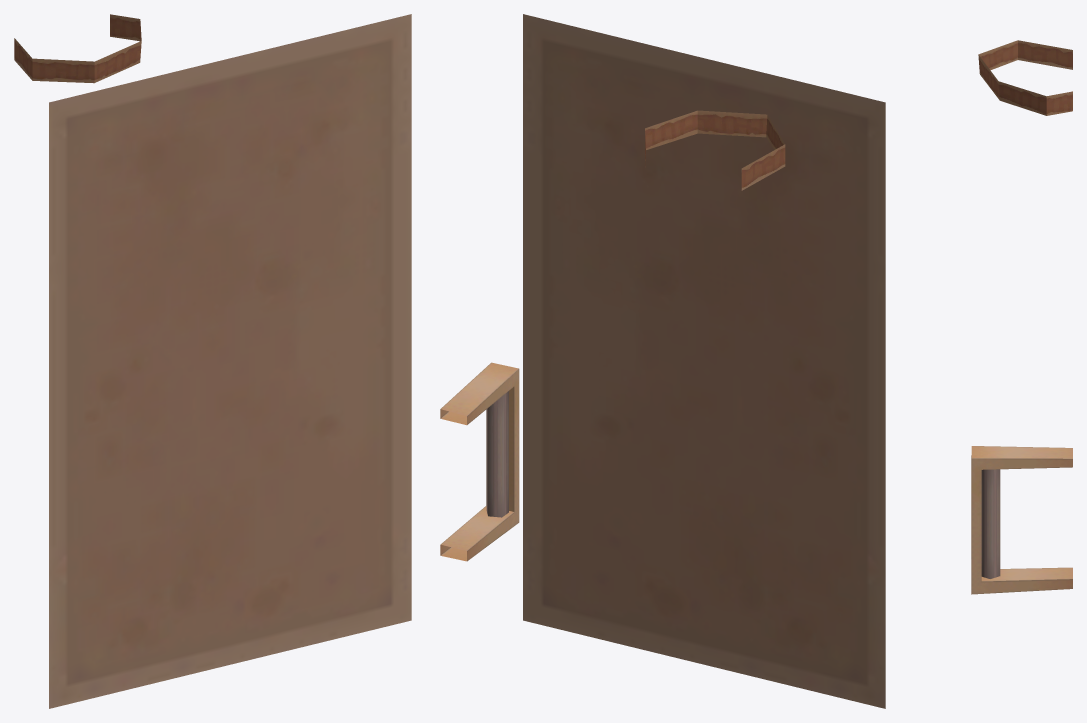
The model's file is house_02_0_50512e64__ZombiesII_depot_diffuse_09_27748207_c1f257.obj.
3 renders of one model, left to right at view 1: azimuth 30°, elevation 25°; view 2: azimuth 150°, elevation 25°; view 3: azimuth 270°, elevation 25°, orthographic. The views are drawn at different scales.
Size of the model in its own units: 12.06 by 19.27 by 5.15.
1 material, 1 textured.
